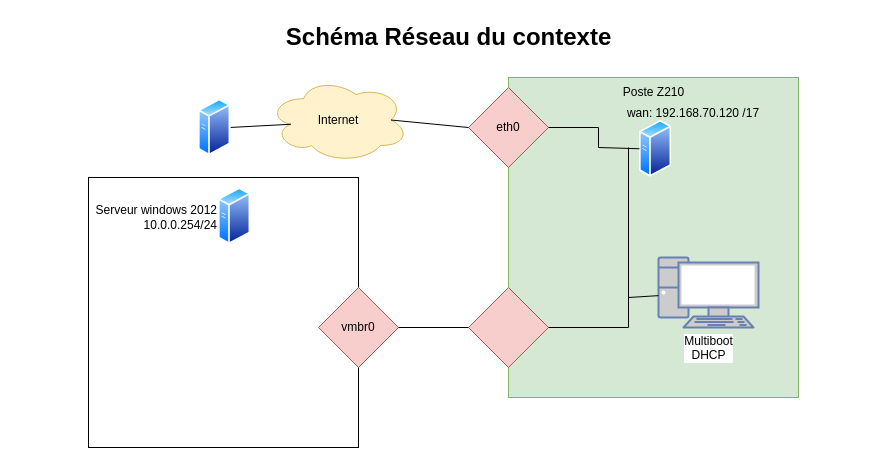
Image size: 895x465. Some labels were removed from this diagram. Each missing label, with the box of its shape:
eth1: (468, 286, 548, 368)
PfSense: (639, 120, 671, 177)
Serveur de Sauvegarde 192.168.70.19: (198, 98, 230, 156)
